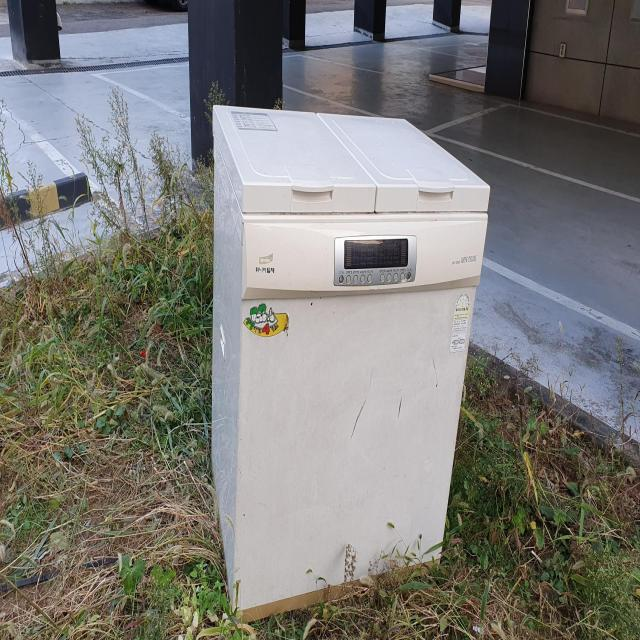refrigerator: (208, 103, 491, 623)
